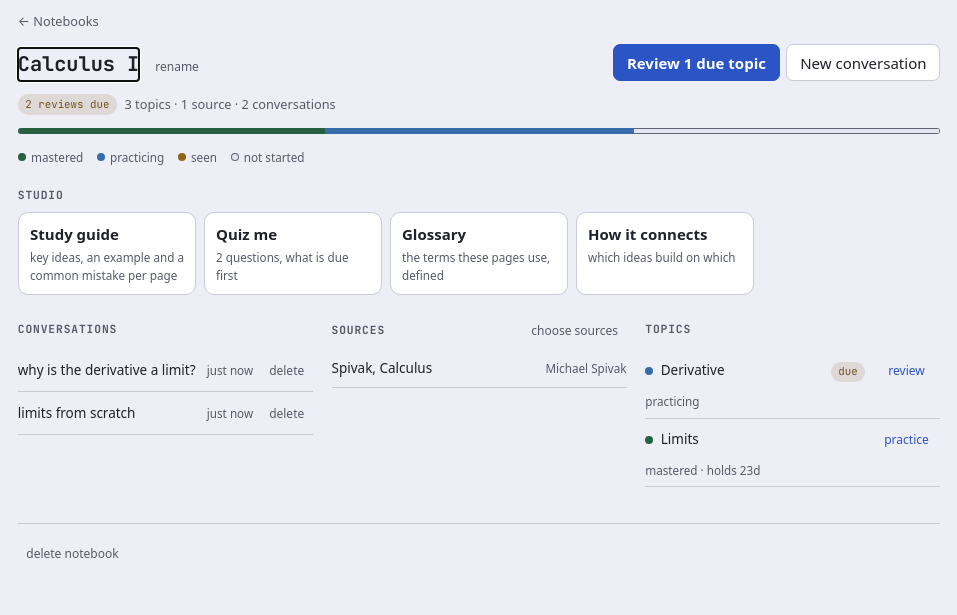
NotebookView › does not open a conversation when filing it failed, and says why
Expected: the heading "Calculus I" is shown, [18,48,139,81]
Click the button "New conversation": [863, 63] box [786,44,940,81]
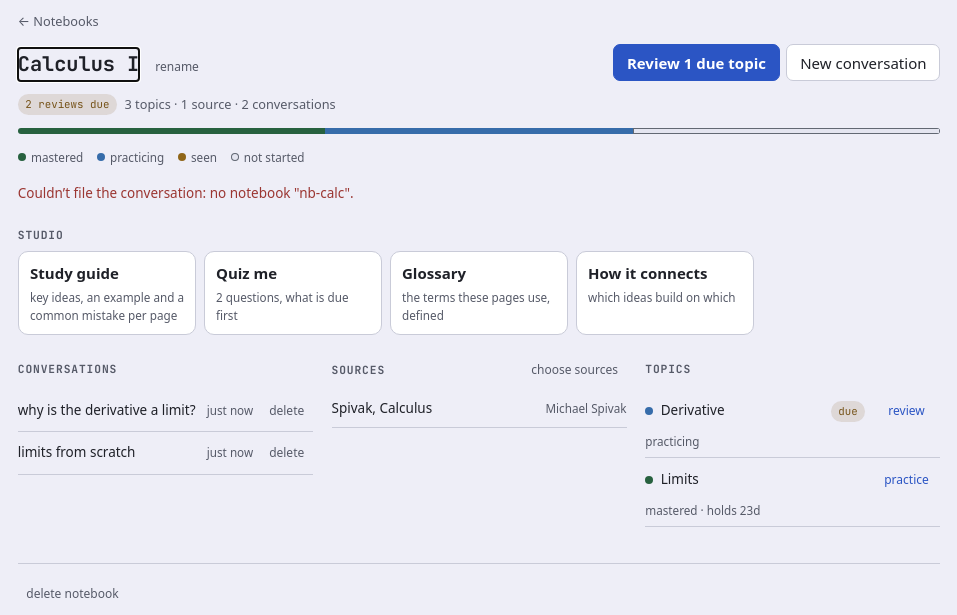
Result: the message reads "Couldn’t file the conversation: no notebook \"nb-calc\"." at [18,184,354,202]
